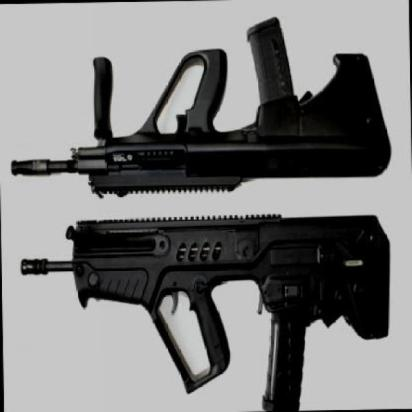Gun: (20, 212, 394, 412), (8, 15, 393, 201)
